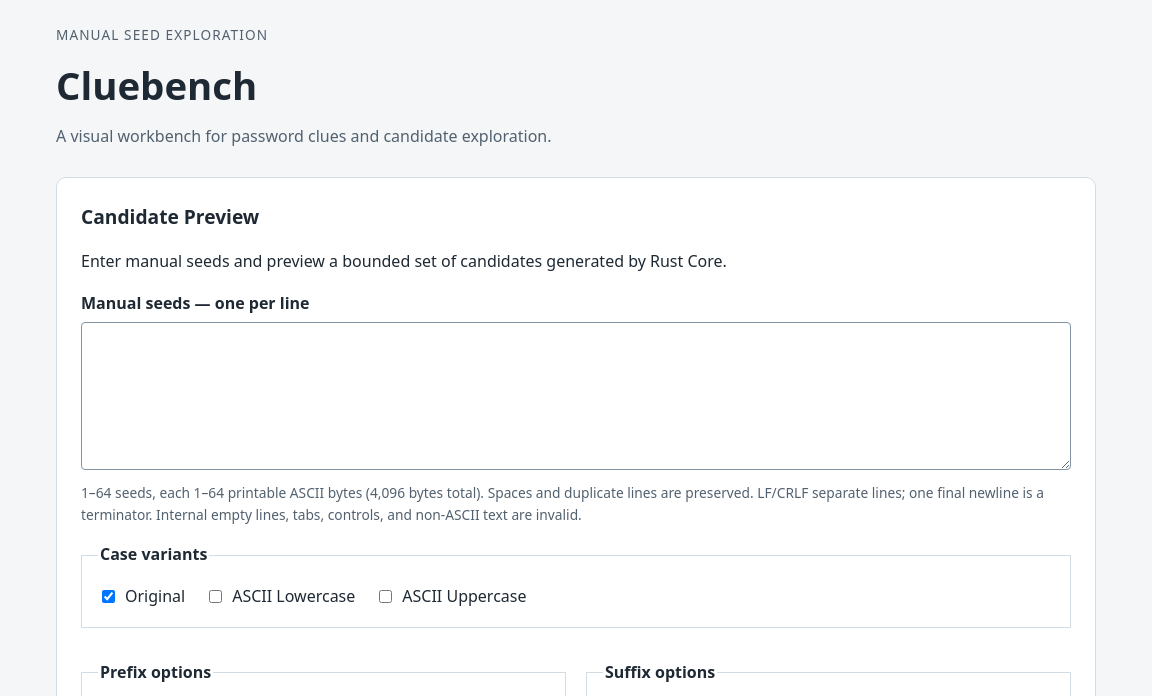
Test: Candidate Preview desktop workflow (mock IPC) › shows Limited separately from Core attemptLimit
In the text box labelled "Manual seeds — one per line": (576, 396) [81,322,1071,470], type "Synthetic1!"
(page scrolled)
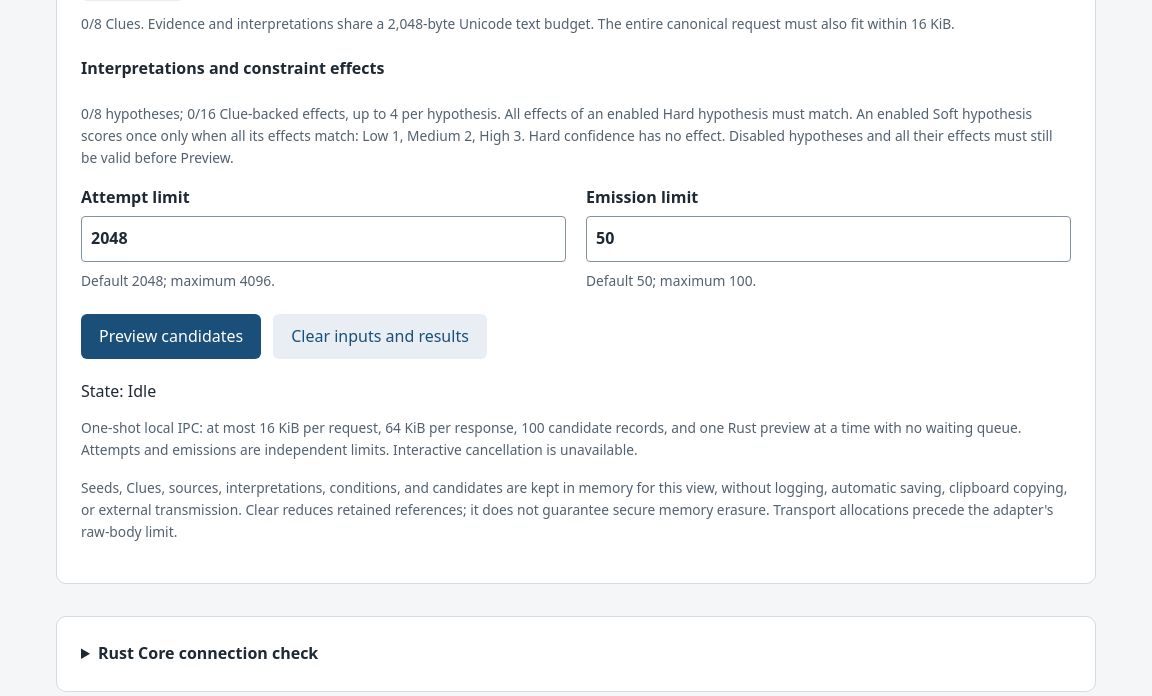
Click the button "Preview candidates": (171, 336) [81,314,261,359]
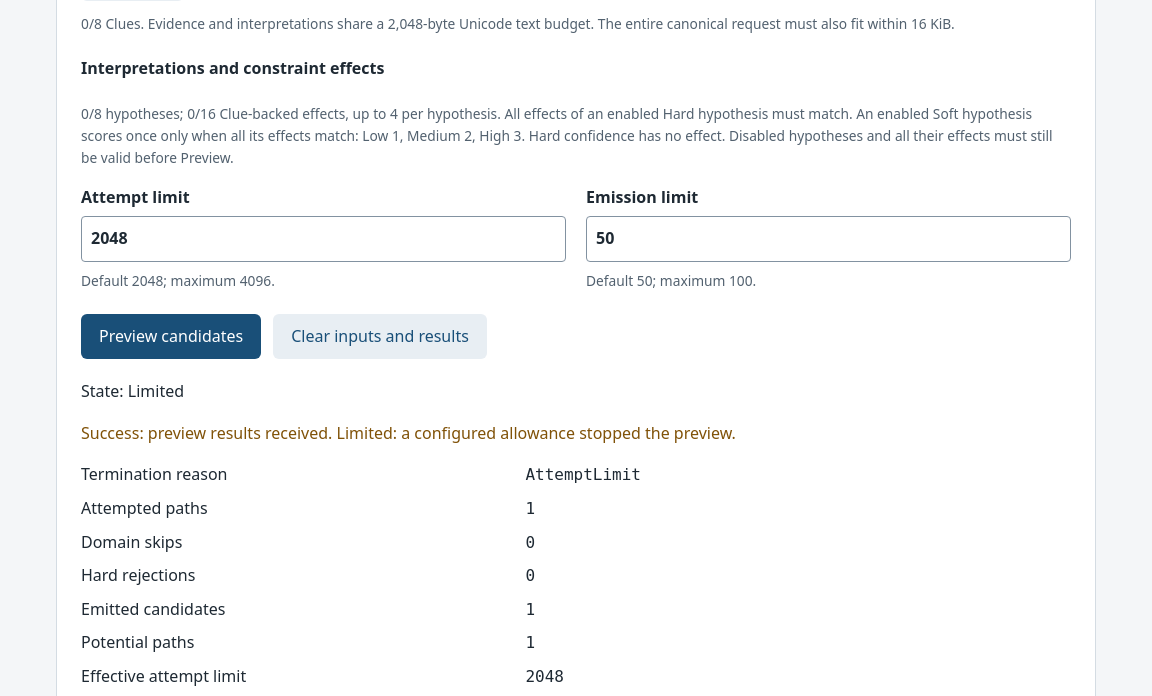
expect the text "Limited: a configured allowance" is shown: met, box [332,422,736,444]
expect the text "AttemptLimit" is shown: met, box [525,462,641,488]
